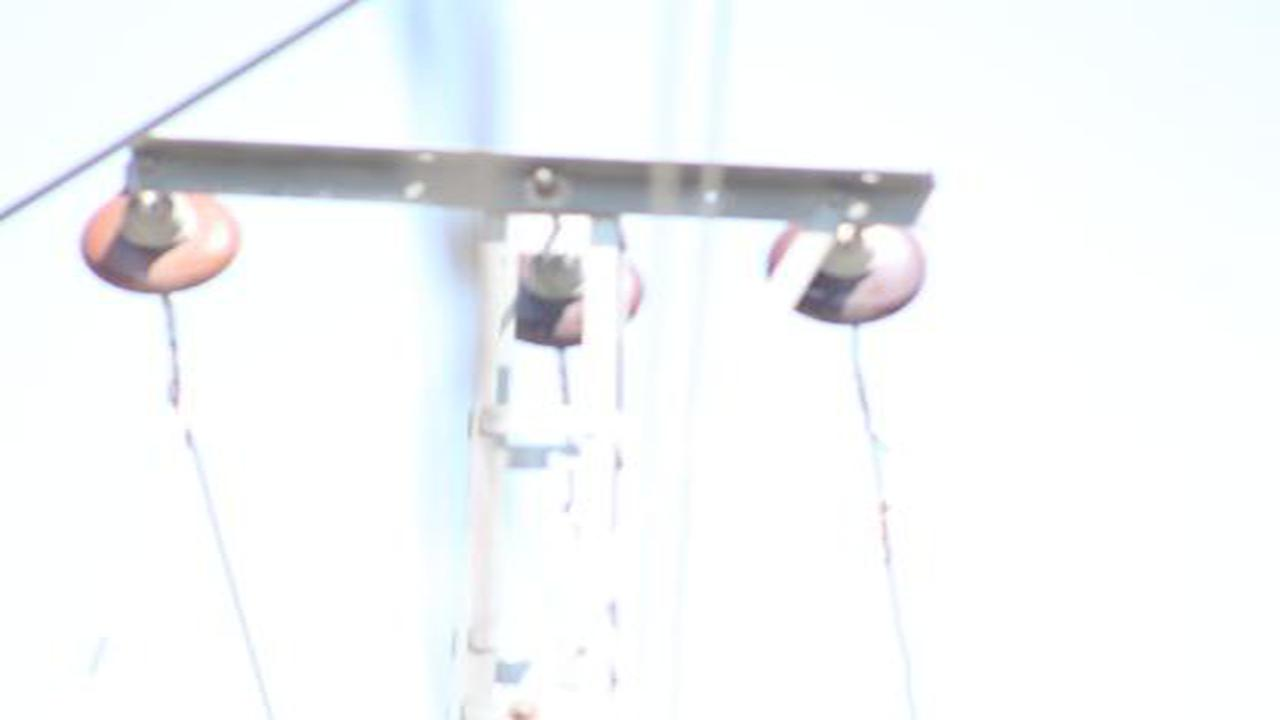insulator_disc: (764, 215, 930, 325), (78, 183, 248, 288), (515, 243, 653, 355)
